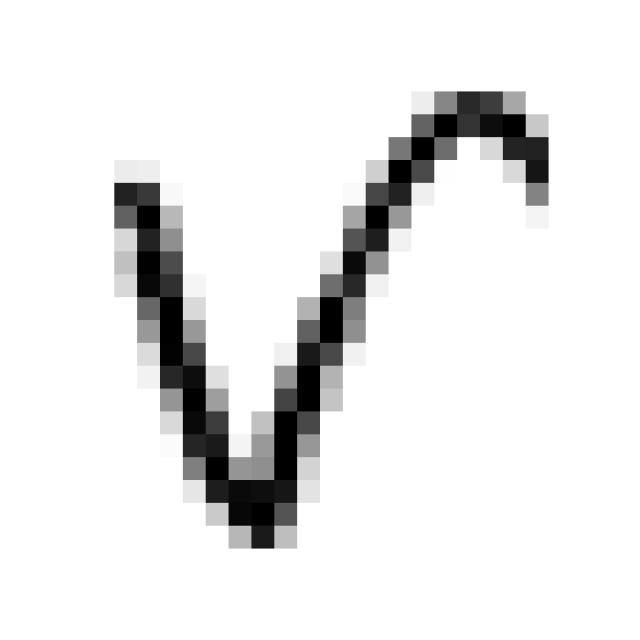7 -seven-: (94, 71, 566, 561)
